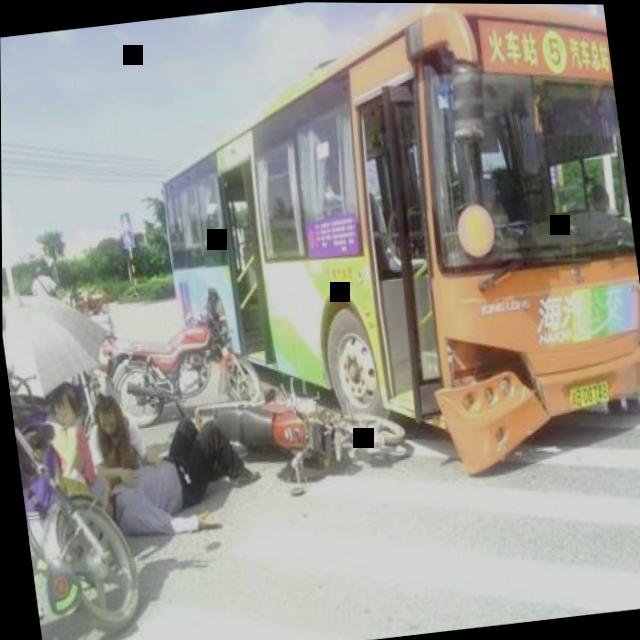Fall-Detected: (72, 392, 257, 554)
